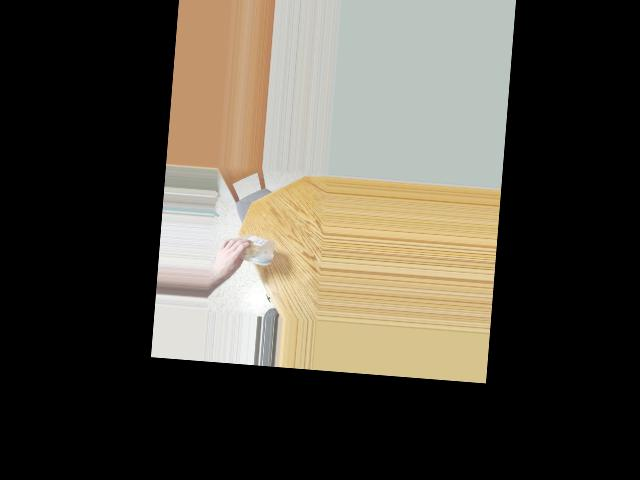cheese: (227, 232, 267, 268)
